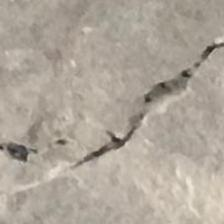Crack: (30, 30, 224, 185)
